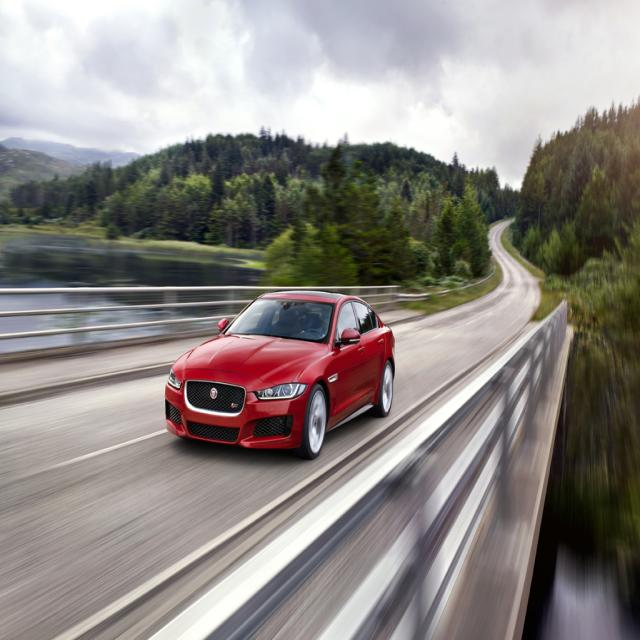car: (163, 291, 393, 459)
